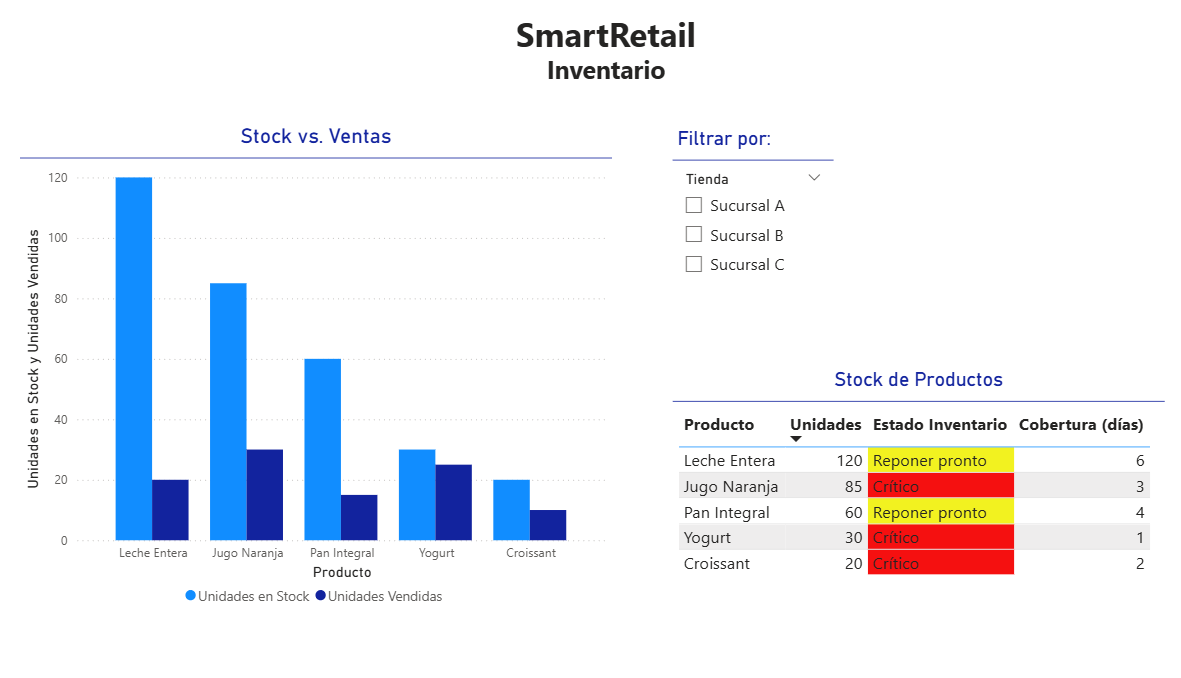

The dashboard page shown, as its layout file describes it:
{"tool":"powerbi","page":{"name":"inventario","canvas":[1280,720],"ordinal":1},"visuals":[{"type":"tableEx","title":"Stock de Productos","fields":{"Values":["inventario.Producto","Sum(inventario.Stock_Actual)","inventario.Estado Inventario","inventario.Cobertura (días)"]},"box":[726.4,368.1,481.8,212.8],"z":0},{"type":"clusteredColumnChart","title":"Stock vs. Ventas","fields":{"Y":["Sum(inventario.Stock_Actual)","Sum(ventas.Cantidad)"],"Category":["inventario.Producto"]},"box":[88.1,128,579.1,480.3],"z":2000},{"type":"slicer","title":"Filtrar por:","fields":{"Values":["ventas.Tienda"]},"box":[726.9,132.3,157.7,177.3],"z":3000},{"type":"textbox","box":[533.8,15.1,253.9,54.9],"z":4000},{"type":"textbox","box":[573.6,54.9,175.6,48],"z":5000}]}

Visuals, with their boxes in screenshot pixels (x1, y1, x2, y2), scaled from the page's 1280x720 canvas onto the 1181x678 screenshot:
"Stock de Productos" tableEx: 670/347/1115/547
"Stock vs. Ventas" clusteredColumnChart: 81/121/616/573
"Filtrar por:" slicer: 671/125/816/292
textbox: 493/14/727/66
textbox: 529/52/691/97
